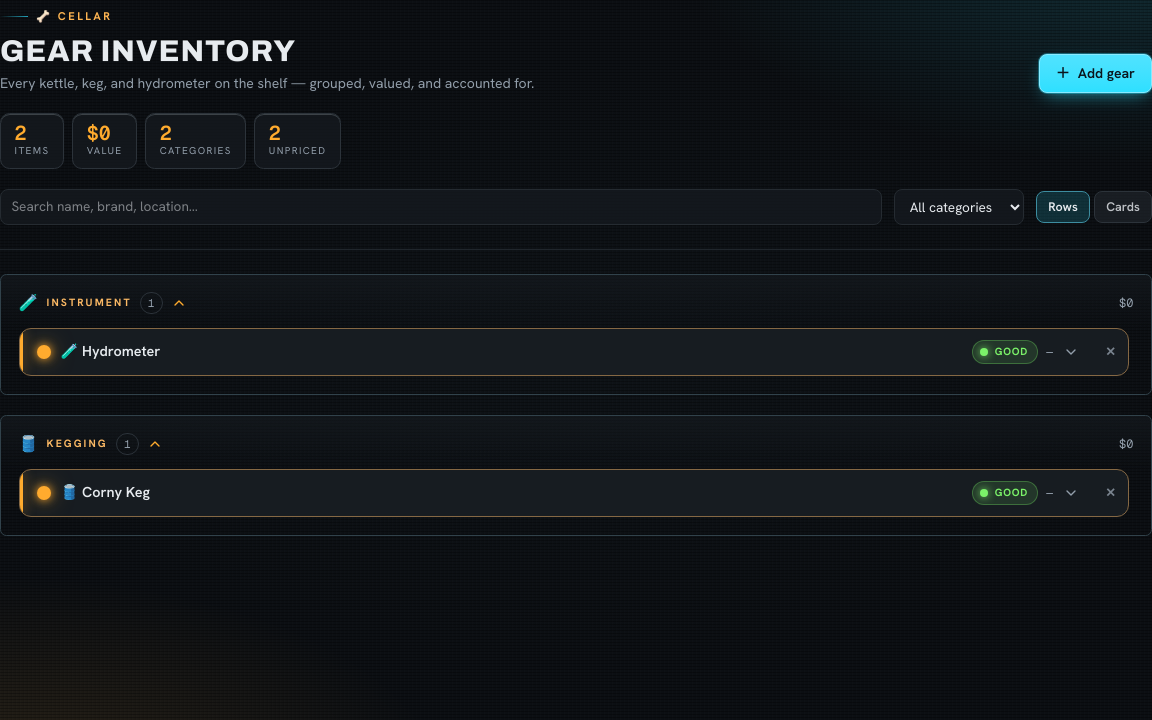
GearView › collapses a category section without losing others
The width and height of the screenshot is (1152, 720).
Expected: the text "Corny Keg" is shown, left=82, top=483, right=150, bottom=501
Click the button "🛢️ Kegging 1" at (91, 444), box left=19, top=432, right=163, bottom=456
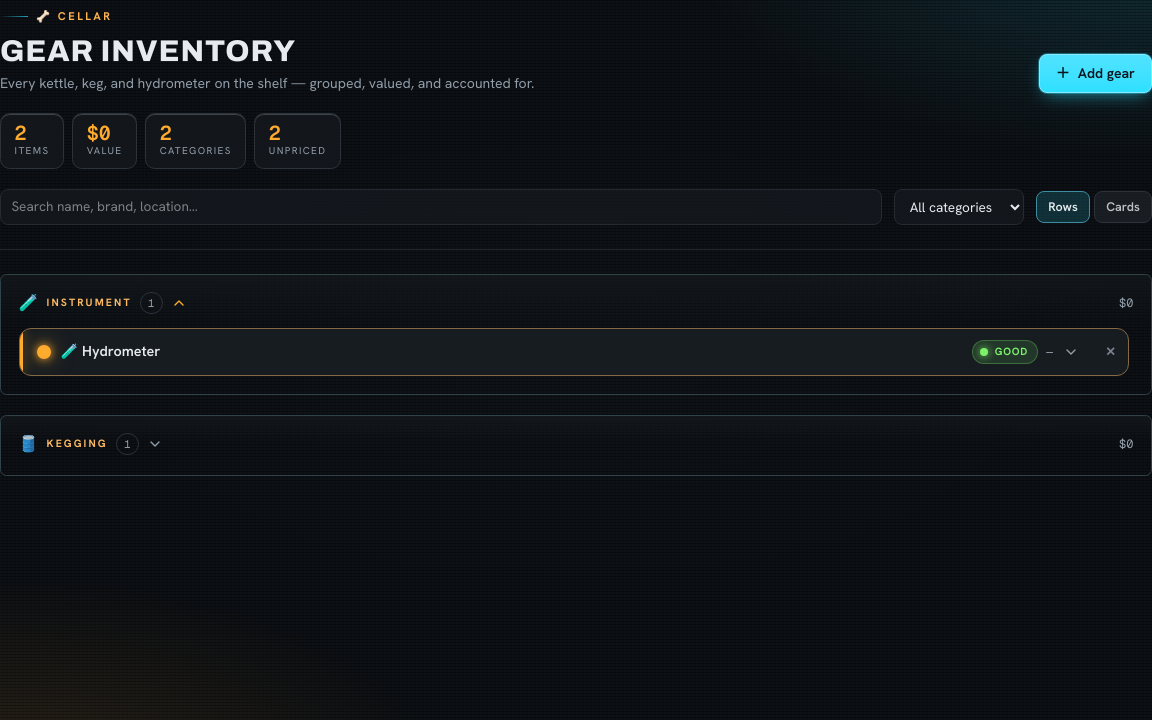
Expected: the text "Hydrometer" is shown, left=82, top=342, right=160, bottom=360
Expected: the button "Corny Keg" is gone
